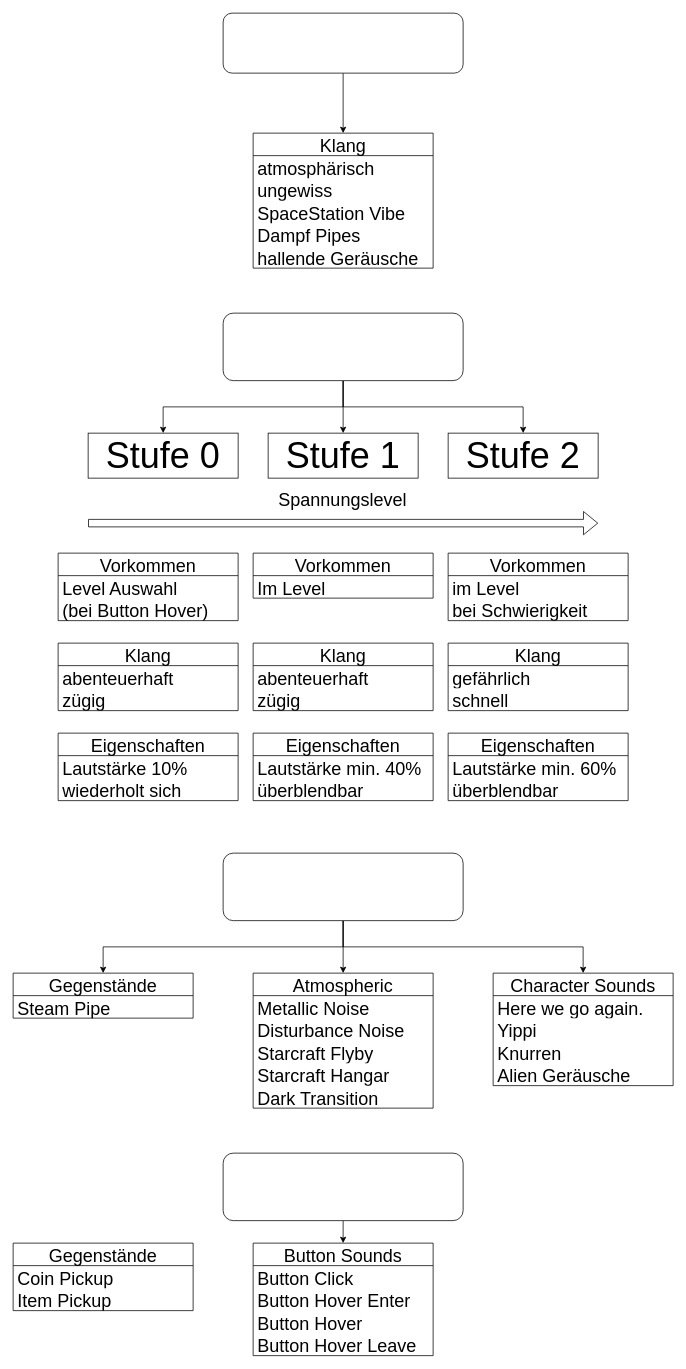
Image size: 686x1369. Some labels were removed from this diagram. The centre of each missing label's shape, as x and y in pixels:
Level Theme: the point at 342,346
Menu Theme: the point at 342,42
OneShots: the point at 342,1186
SingleSounds: the point at 342,886
